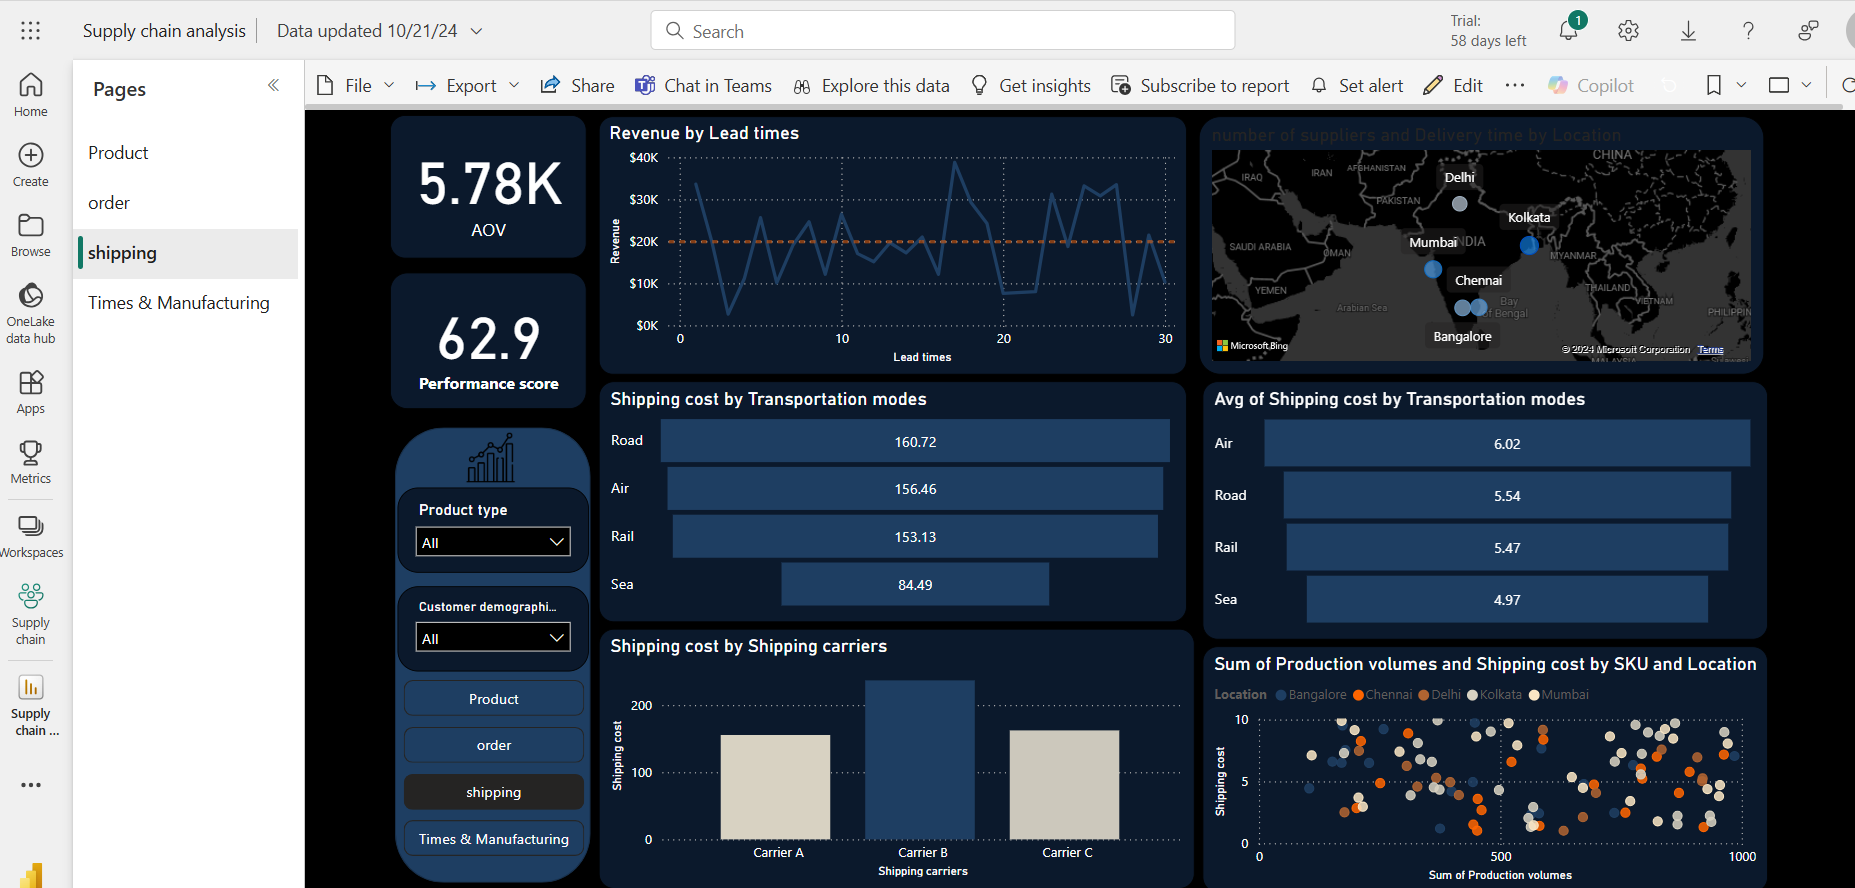

Layout of this report page (visuals, bound fields, positions):
{"tool":"powerbi","page":{"name":"shipping","canvas":[1280,720],"ordinal":2},"visuals":[{"type":"shape","box":[9,291.5,179.8,418.6],"z":0},{"type":"card","fields":{"Values":["calculated_measures.AOV"]},"box":[5.1,5.1,181.1,132.3],"z":1000},{"type":"card","fields":{"Values":["calculated_measures.Performance score"]},"box":[5.1,149,181.1,125.8],"z":2000},{"type":"lineChart","fields":{"Category":["Fact_sales.Lead times"],"Y":["calculated_measures.Revenue"]},"box":[196.4,5.4,541.1,237.5],"z":3000},{"type":"scatterChart","fields":{"X":["Sum(Fact_sales.Production volumes)"],"Y":["calculated_measures.Shipping cost"],"Category":["Dim_product.SKU"],"Series":["Dim_shipping.Location"]},"box":[751.8,492.9,519.6,226.8],"z":4000},{"type":"funnel","fields":{"Category":["Dim_shipping.Transportation modes"],"Y":["calculated_measures.Shipping cost"]},"box":[196.4,250,541.1,221.4],"z":5000},{"type":"map","fields":{"Category":["Dim_shipping.Location"],"Size":["calculated_measures.number of suppliers"]},"box":[748.2,5.4,519.6,237.5],"z":6000},{"type":"funnel","fields":{"Category":["Dim_shipping.Transportation modes"],"Y":["calculated_measures.Avg of Shipping cost"]},"box":[751.8,250,519.6,237.5],"z":7000},{"type":"columnChart","fields":{"Category":["Dim_shipping.Shipping carriers"],"Y":["calculated_measures.Shipping cost"]},"box":[196.4,476.8,548.2,239.3],"z":8000},{"type":"slicer","fields":{"Values":["Dim_product.Product type"]},"box":[11.6,346.7,175.9,78.3],"z":9000},{"type":"slicer","fields":{"Values":["Fact_sales.Customer demographics"]},"box":[11.6,437.9,175.9,78.3],"z":10000},{"type":"pageNavigator","box":[16.7,523.9,166.9,163.1],"z":11000},{"type":"image","box":[28.3,291.5,137.4,55.2],"z":12000}]}

Visuals, with their boxes on the page's 1280x720 design canvas (x1, y1, x2, y2). These are canvas units, not pixel positions in the 1855x888 screenshot, which may show the page scaled, cropped or inside an application window:
shape: crop(9, 292, 189, 710)
card - calculated_measures.AOV: crop(5, 5, 186, 137)
card - calculated_measures.Performance score: crop(5, 149, 186, 275)
lineChart - Fact_sales.Lead times x calculated_measures.Revenue: crop(196, 5, 738, 243)
scatterChart - Sum(Fact_sales.Production volumes) x calculated_measures.Shipping cost: crop(752, 493, 1271, 720)
funnel - Dim_shipping.Transportation modes x calculated_measures.Shipping cost: crop(196, 250, 738, 471)
map - Dim_shipping.Location x calculated_measures.number of suppliers: crop(748, 5, 1268, 243)
funnel - Dim_shipping.Transportation modes x calculated_measures.Avg of Shipping cost: crop(752, 250, 1271, 488)
columnChart - Dim_shipping.Shipping carriers x calculated_measures.Shipping cost: crop(196, 477, 745, 716)
slicer - Dim_product.Product type: crop(12, 347, 188, 425)
slicer - Fact_sales.Customer demographics: crop(12, 438, 188, 516)
pageNavigator: crop(17, 524, 184, 687)
image: crop(28, 292, 166, 347)
